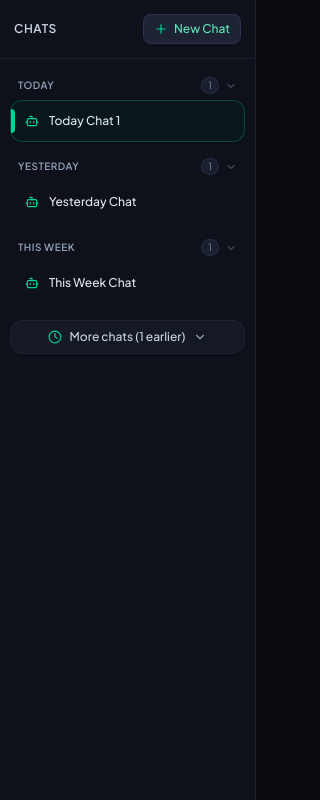
Test: SessionSidebar component tests › renders Today, Yesterday, and This Week by default, with More chats button
Expected: the text "Today" is shown, [18,78,54,93]
Expected: the text "Yesterday" is shown, [18,159,79,174]
Click "More chats" button
Click the button "More chats (1 earlier)" at (128, 337), box [10,320,245,354]
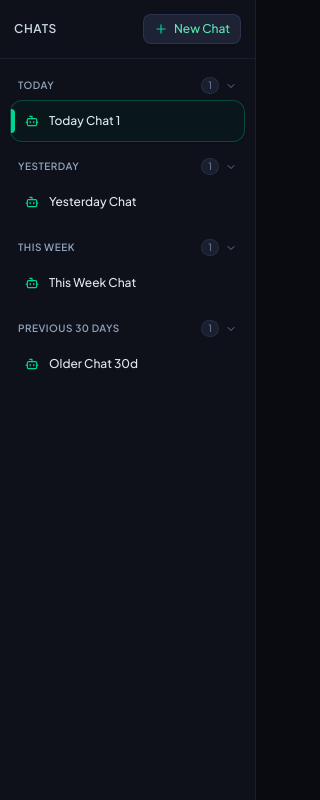
Expected: the text "Older Chat 30d" is shown, [49,356,138,372]
Expected: the text "Previous 30 Days" is shown, [18,321,120,336]
